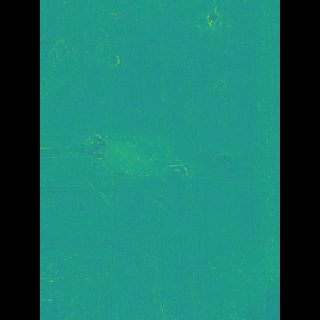Loch: (89, 127, 188, 192), (185, 10, 207, 39)
